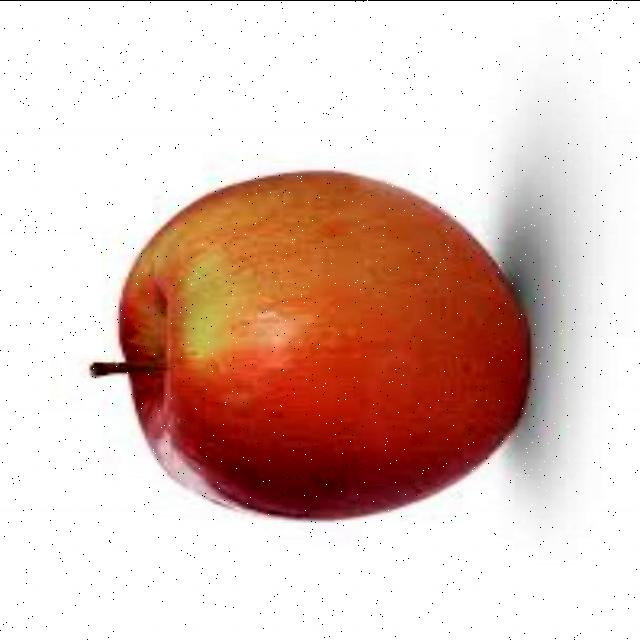HEALTHY: (83, 137, 560, 530)
